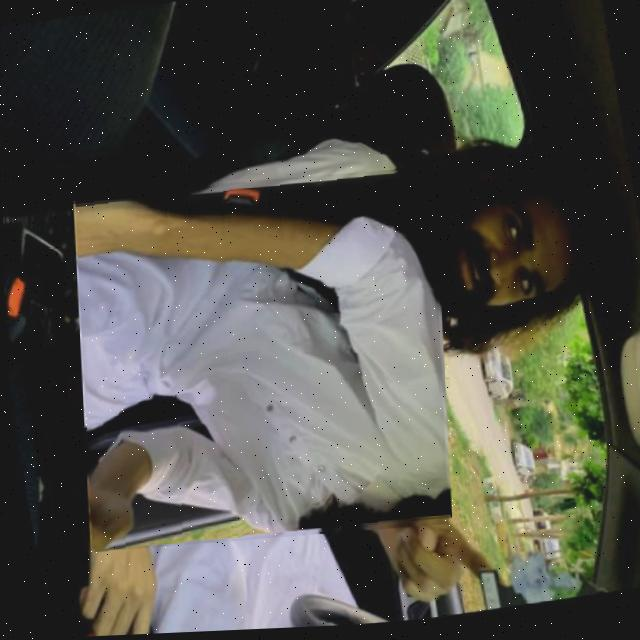no-seatbelt: (73, 170, 446, 553)
